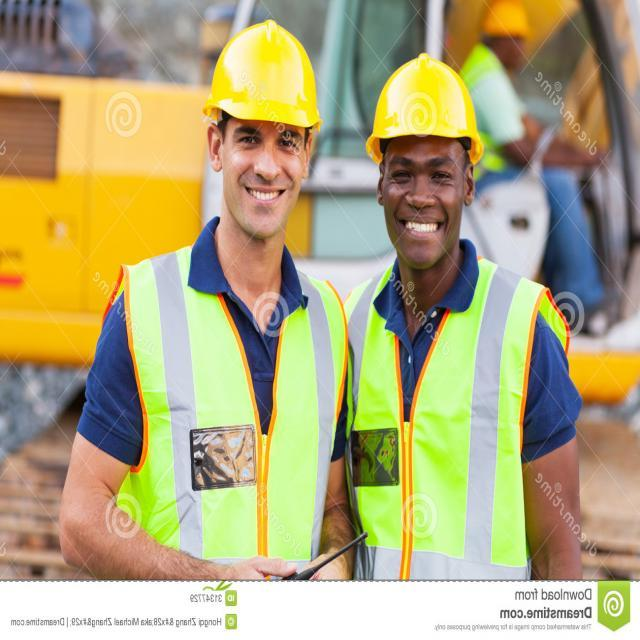safetyhelmet: (202, 17, 321, 196), (358, 54, 488, 217)
